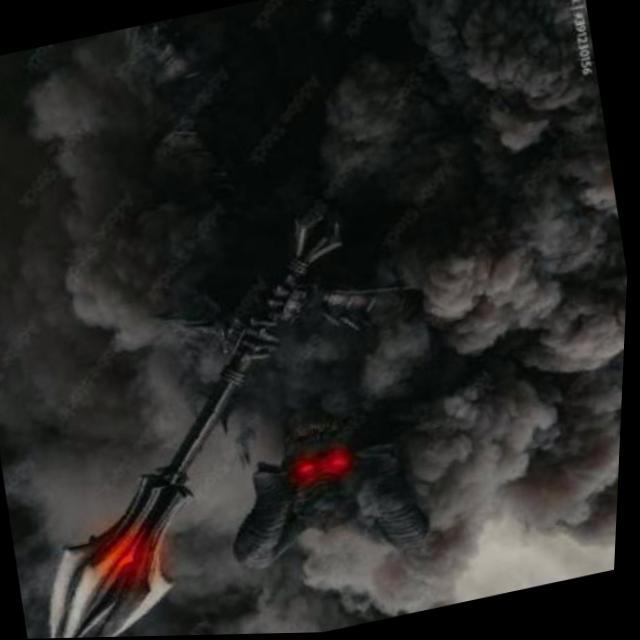weapon: (0, 203, 417, 640)
